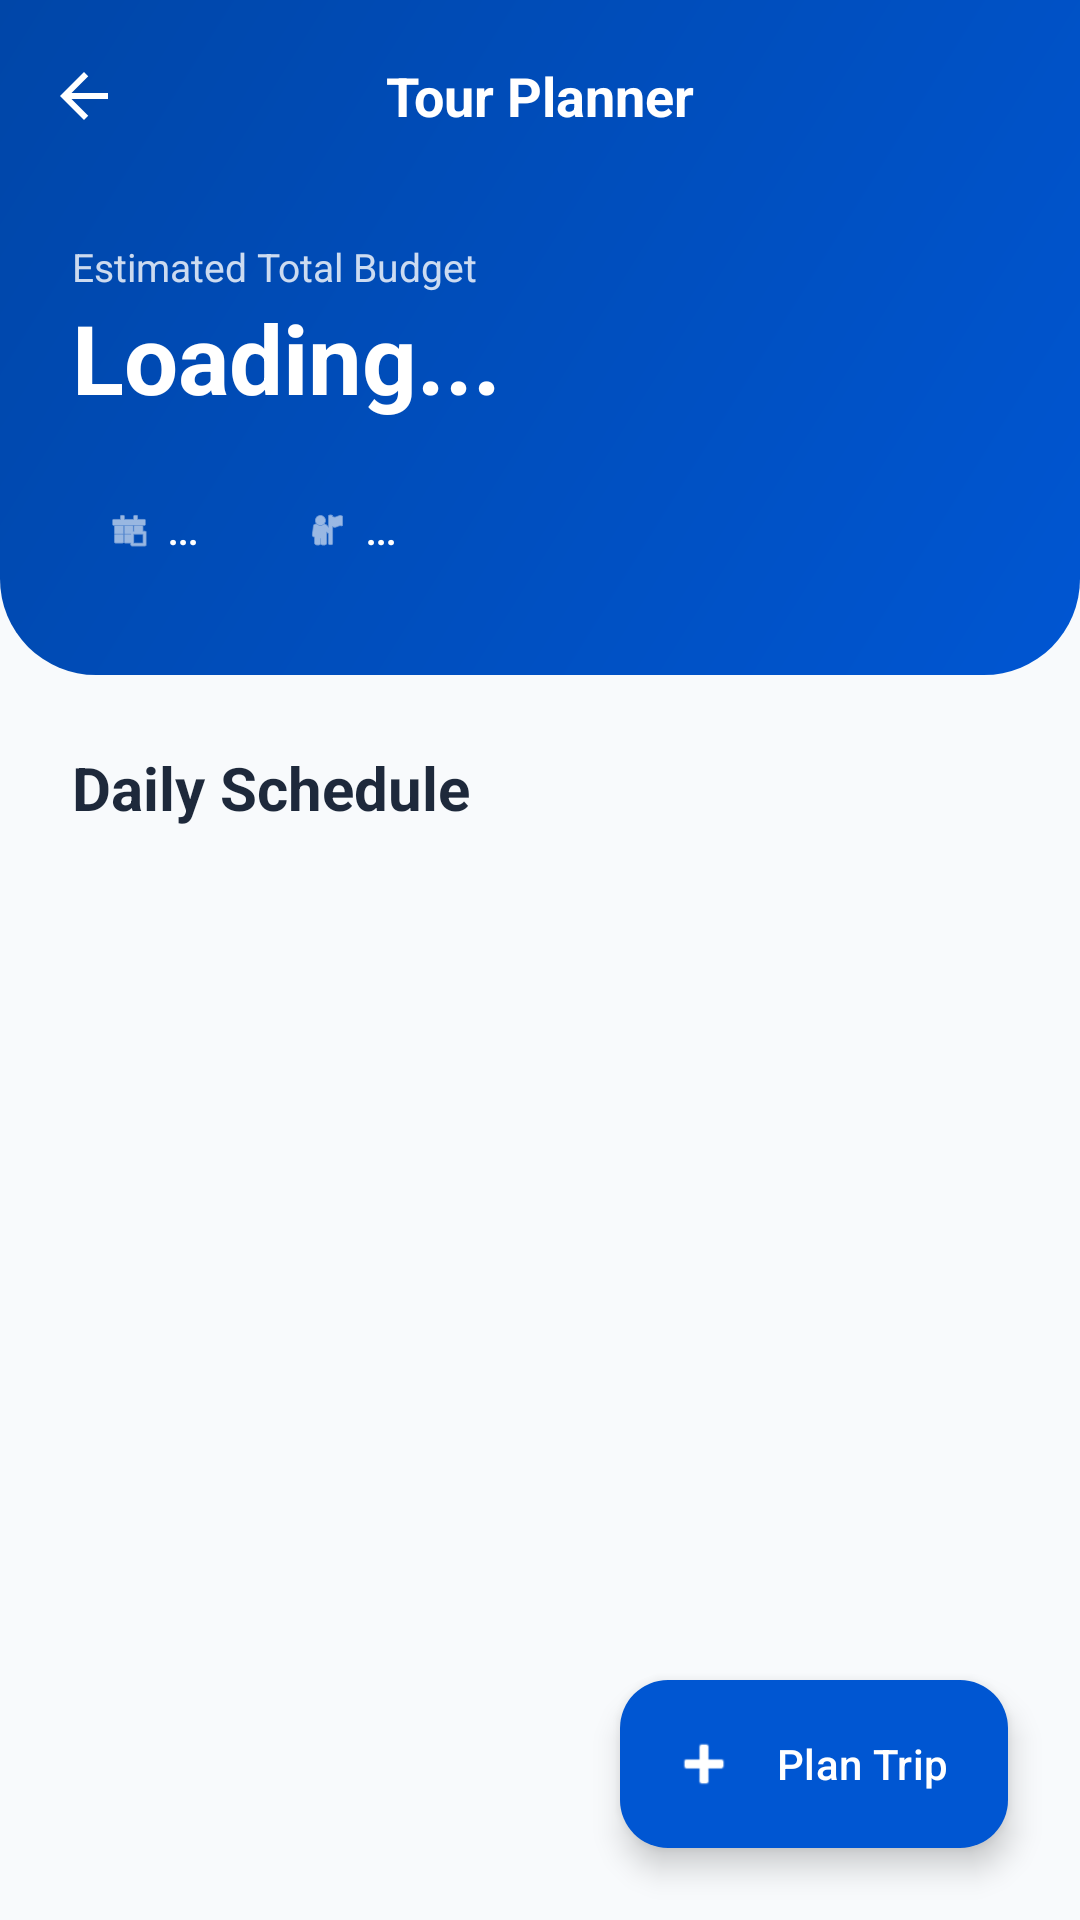

Icon bounding boxes for this 1080x1920 phone screenshot, format (x1, y1, x2, y2):
back: (60, 72, 108, 120)
today: (112, 515, 147, 547)
